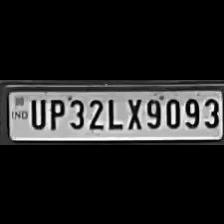0: (163, 94, 181, 128)
2: (86, 94, 104, 130)
3: (200, 94, 220, 128), (66, 94, 84, 130)
9: (143, 94, 161, 128), (182, 94, 198, 128)
L: (104, 94, 122, 130)
P: (46, 95, 64, 129)
U: (27, 95, 45, 129)
X: (123, 94, 143, 130)
